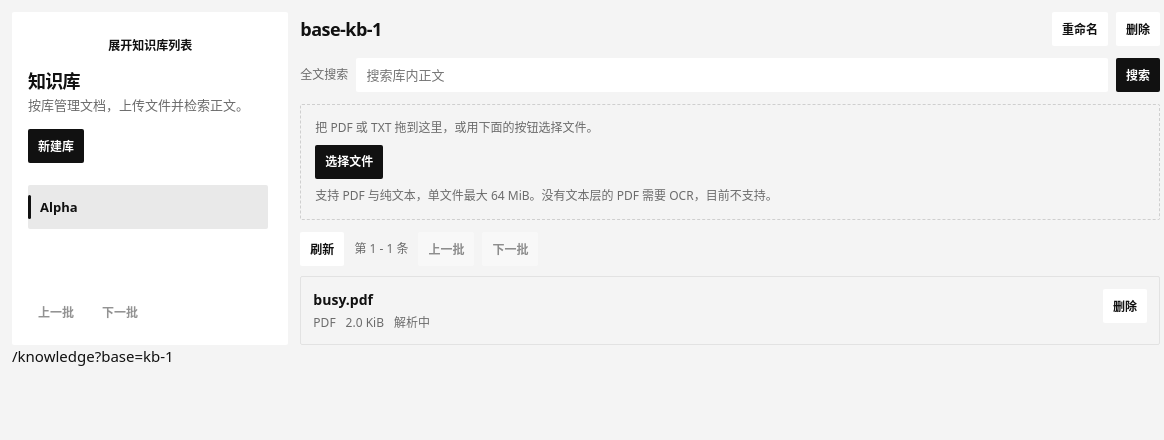
Scenario: KnowledgePage › keeps the rows that are on screen when a same-base refresh fails
This screenshot has width=1164, height=440.
Expected: the text "busy.pdf" is shown, [313,290,373,309]
Click the button "刷新": (322, 249) [300,232,344,266]
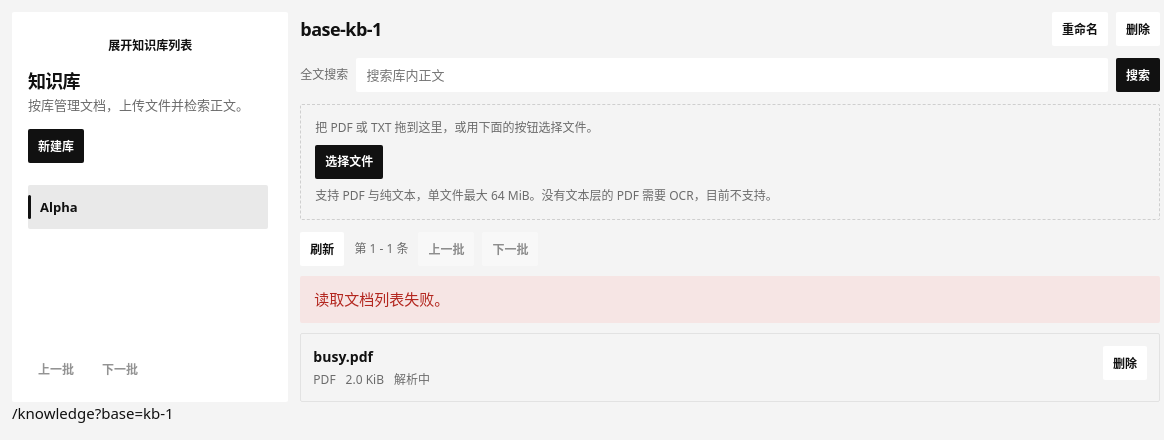
Expected: the text "busy.pdf" is shown, [313,346,373,366]
Now the text "读取文档列表失败。" is shown, box [300,276,1160,322]
